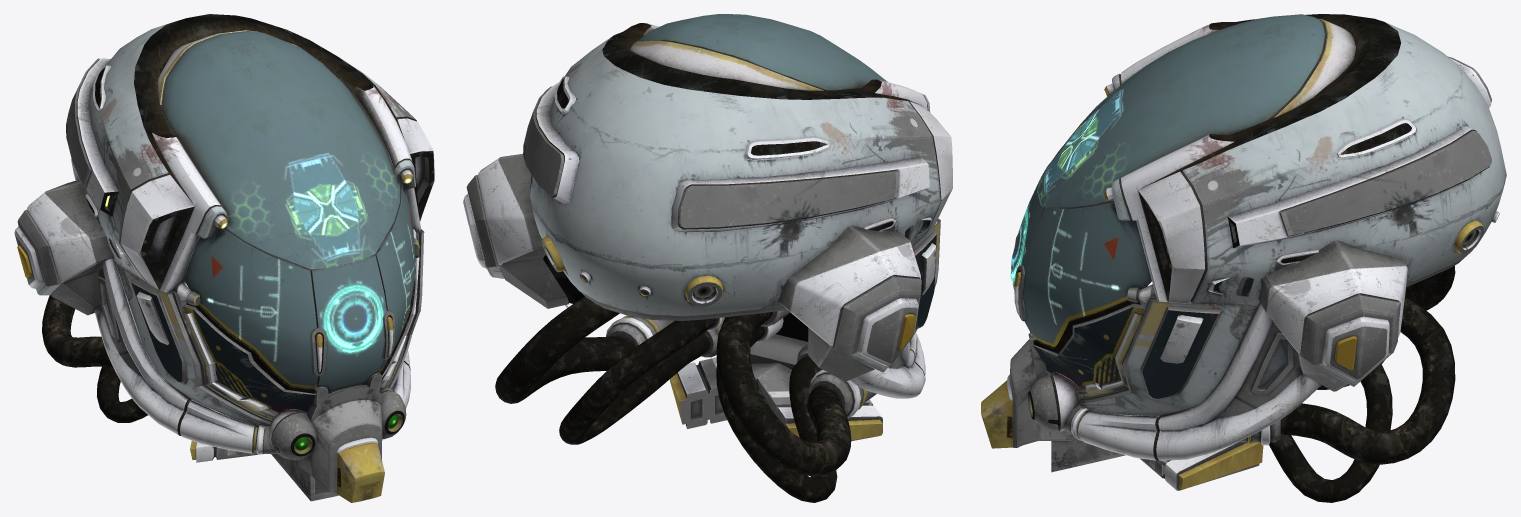
3 views of the same model, side by side, from view 1: azimuth 30°, elevation 25°; view 2: azimuth 150°, elevation 25°; view 3: azimuth 270°, elevation 25° (orthographic). The views are drawn at different scales.
Visible parts, largest first — view 1: node_damagedHelmet_-6514; view 2: node_damagedHelmet_-6514; view 3: node_damagedHelmet_-6514.
Boxes of the visible parts, left/top/right/bottom form: node_damagedHelmet_-6514: left=14, top=14, right=434, bottom=502; node_damagedHelmet_-6514: left=463, top=14, right=952, bottom=502; node_damagedHelmet_-6514: left=981, top=14, right=1506, bottom=502.
Bounding box in the file's own units: 1.89 × 1.8 × 2.
Materials: 1 (1 with a texture image).
